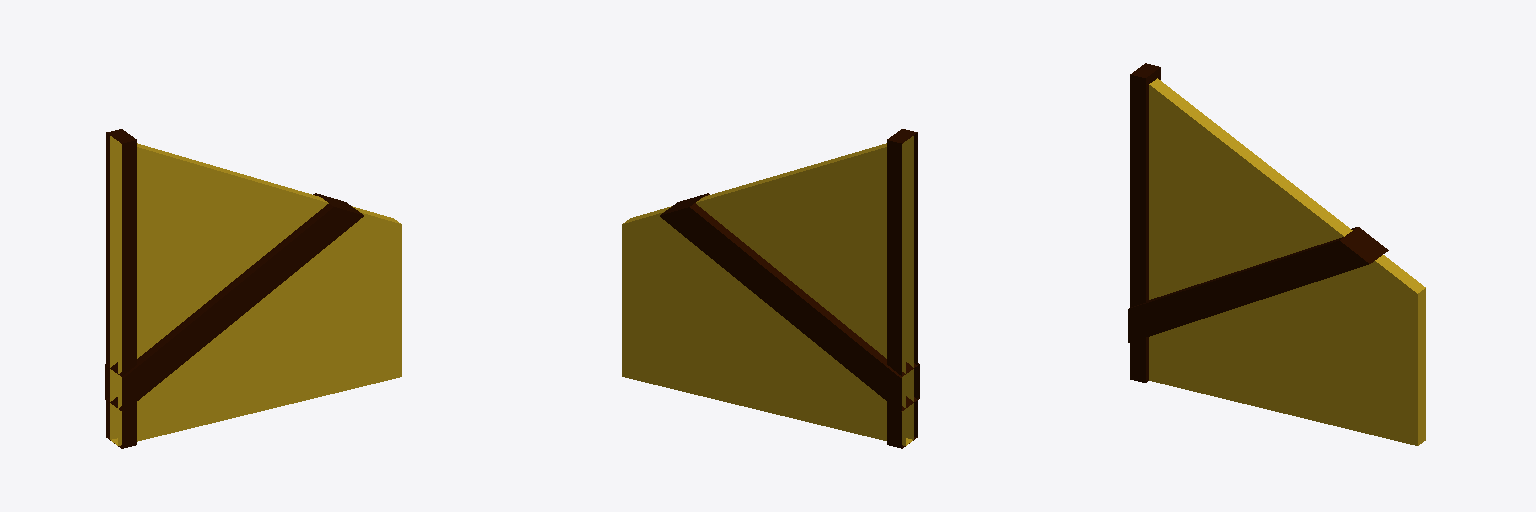
File: House_walltop.obj
3 renders of one model, left to right at view 1: azimuth 30°, elevation 25°; view 2: azimuth 150°, elevation 25°; view 3: azimuth 330°, elevation 25°, orthographic.
Visible parts, largest first — view 1: WallTop_Wall_top; view 2: WallTop_Wall_top; view 3: WallTop_Wall_top.
Boxes of the visible parts, <box> form: WallTop_Wall_top: <box>105,129,401,448</box>; WallTop_Wall_top: <box>622,129,919,448</box>; WallTop_Wall_top: <box>1128,63,1425,445</box>.
Size of the model in its own units: 3.9 by 4.01 by 0.4559.